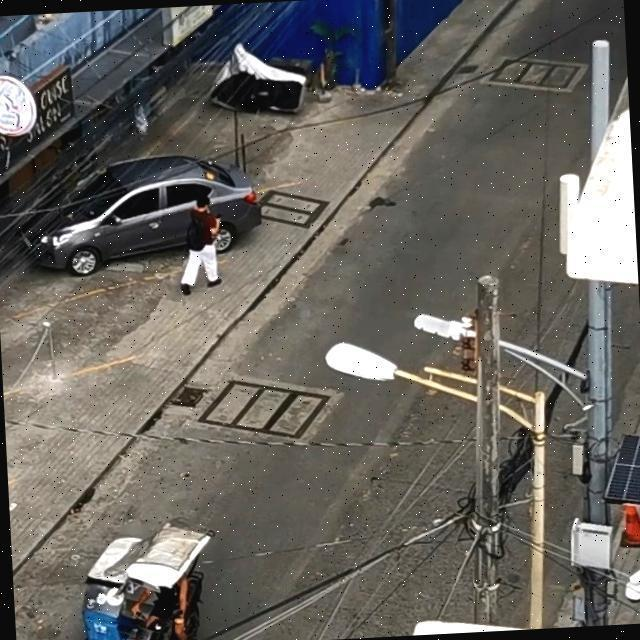Tricycle: (66, 521, 237, 640)
